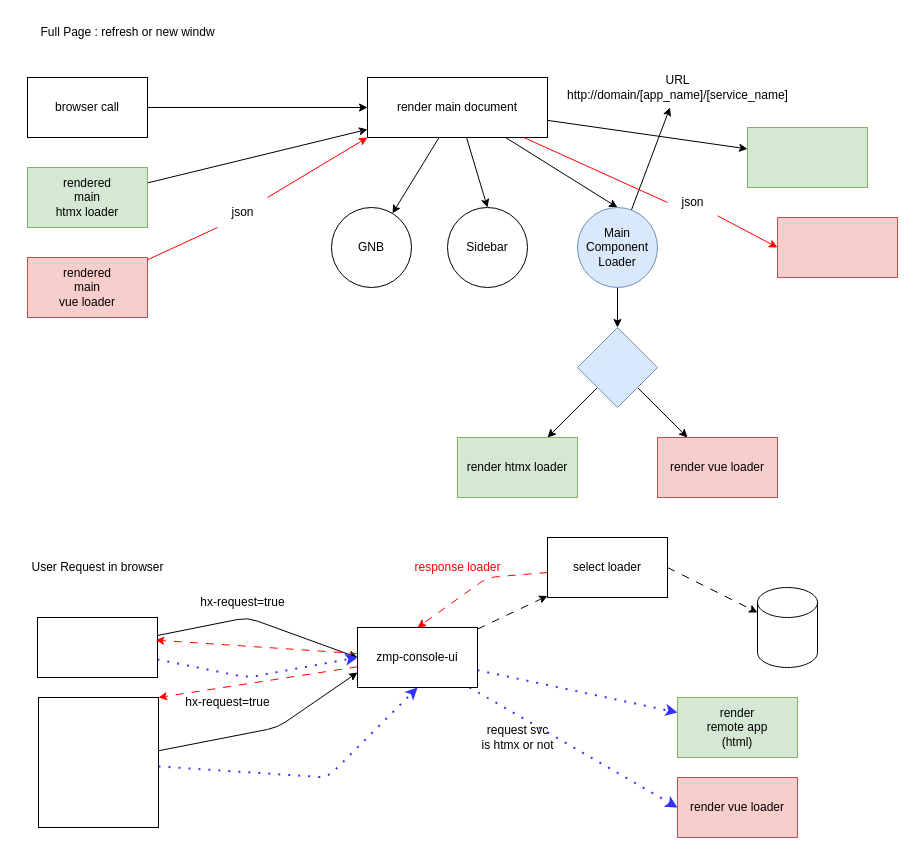
Some shapes in this 915 by 855 pixel diagram are drawn without their labels. Each missing label, with the centre of its shape:
click menu item for vue apps <div hx-get='''" hx-target="#main">: [98,762]
htmx/vue: [617,367]
menu call htmx hx-target = "#main": [97,647]
meta information: [787,627]
remote app (html): [807,157]
remote app restful api: [837,247]
